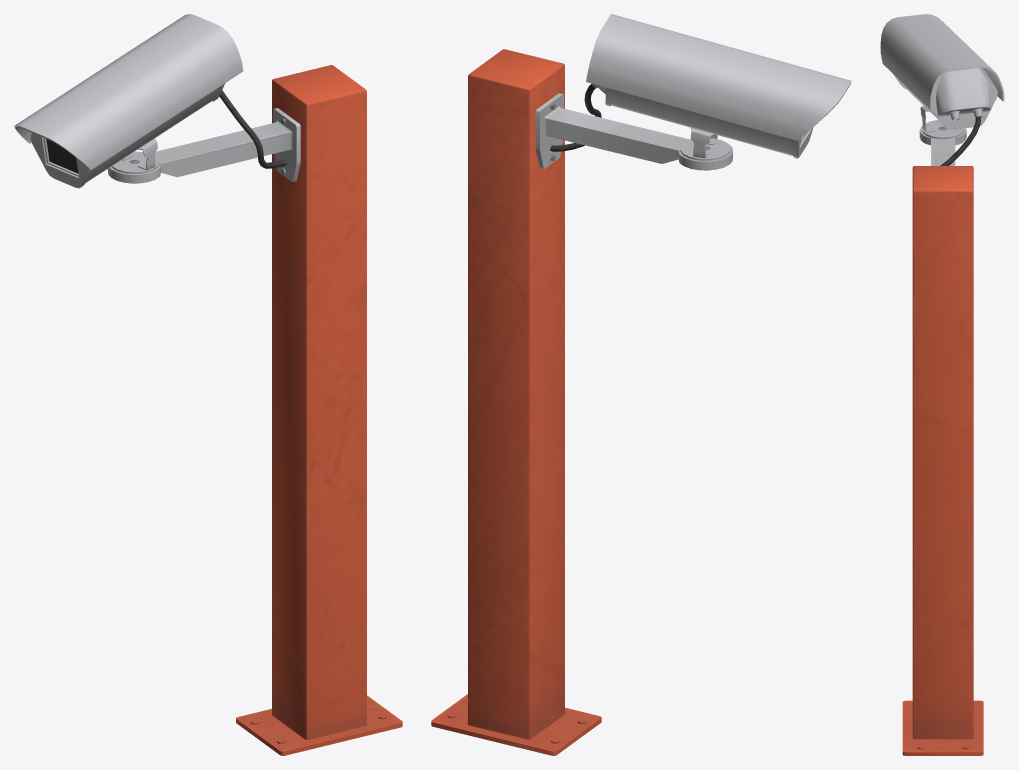
The model's file is SM_Post_2_Camera.fbx.
3 renders of one model, left to right at view 1: azimuth 30°, elevation 25°; view 2: azimuth 150°, elevation 25°; view 3: azimuth 270°, elevation 25°, orthographic. The views are drawn at different scales.
Parts seen in each view (by area): view 1: SM_Post_2_Camera_LOD0; view 2: SM_Post_2_Camera_LOD0; view 3: SM_Post_2_Camera_LOD0.
Part boxes in pixels (x1,y1,x2,y2): SM_Post_2_Camera_LOD0: (14,14,402,755); SM_Post_2_Camera_LOD0: (431,14,851,755); SM_Post_2_Camera_LOD0: (880,14,1004,755).
Bounding box in the file's own units: 90.65 × 30.53 × 168.
Materials: 1 (1 with a texture image).
